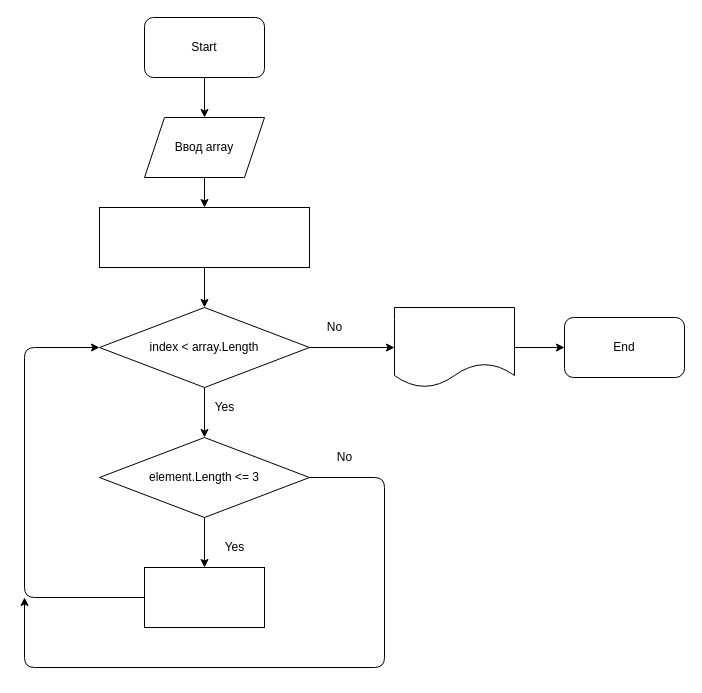
Image size: 702x693. Some labels were removed from this diagram. The box of each missing label's shape, as (x1, y1, x2, y2) in pixels:
array = [пользовательский ввод] result = [] size =0: (98, 206, 310, 268)
result[size] = element size = size +1: (144, 566, 264, 628)
Вывод array, resut: (394, 306, 514, 388)
